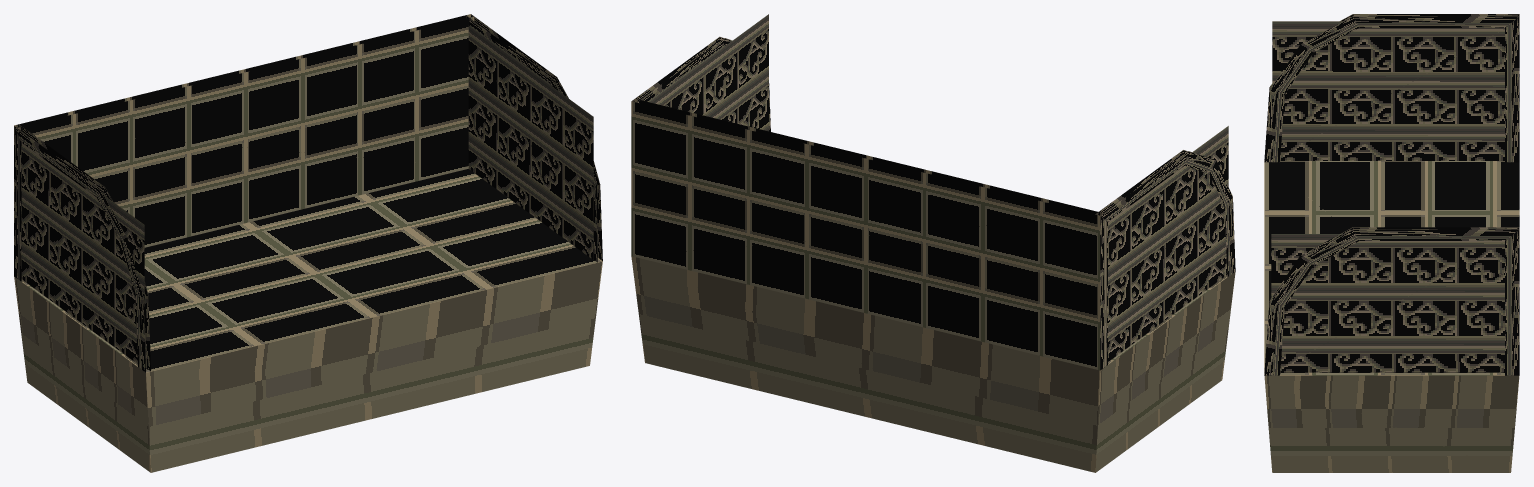
Rendered from 3876kg3case04.gltf.
3 renders of one model, left to right at view 1: azimuth 30°, elevation 25°; view 2: azimuth 150°, elevation 25°; view 3: azimuth 270°, elevation 25°, orthographic. The views are drawn at different scales.
Parts seen in each view (by area): view 1: 3876kg3case04; view 2: 3876kg3case04; view 3: 3876kg3case04.
Boxes of the visible parts, x1,y1,x2,y2 form: 3876kg3case04: (14, 14, 602, 472); 3876kg3case04: (631, 14, 1235, 472); 3876kg3case04: (1264, 14, 1519, 472).
Size of the model in its own units: 2 by 1.07 by 1.
Materials: 4 (4 with a texture image).
